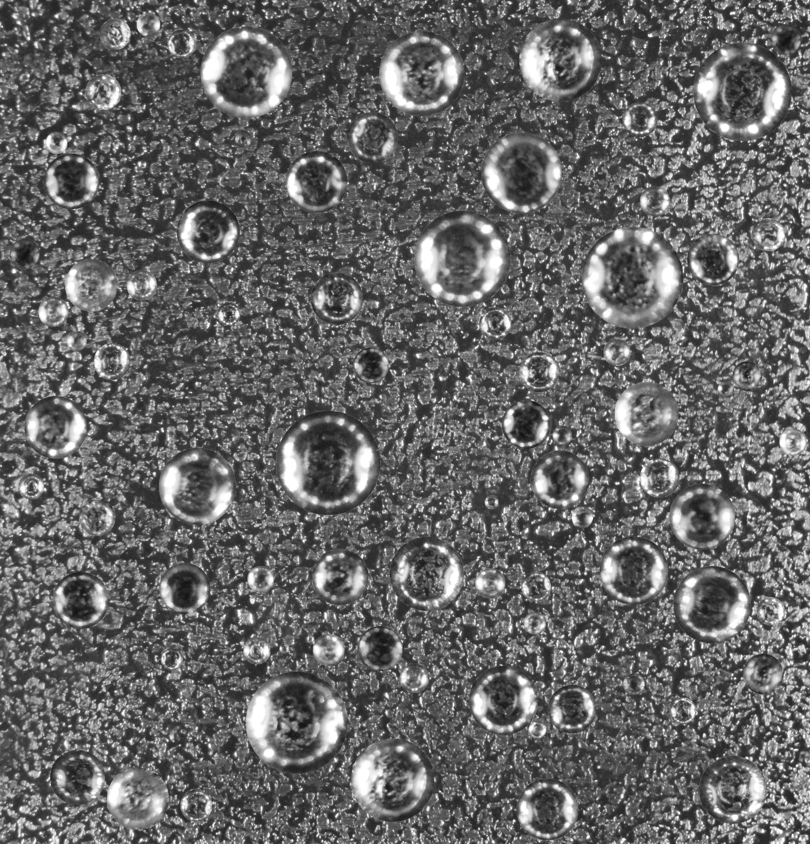Bubble: (276, 410, 380, 515), (245, 671, 347, 773), (581, 227, 683, 328), (693, 42, 791, 140), (414, 210, 510, 306), (200, 26, 292, 117), (379, 31, 464, 116), (351, 738, 434, 821), (519, 18, 601, 101), (481, 132, 561, 213), (673, 566, 750, 643), (159, 447, 235, 524), (389, 536, 463, 610), (469, 666, 538, 735), (599, 536, 668, 604), (699, 756, 766, 823), (669, 484, 735, 549), (614, 382, 678, 445), (176, 200, 239, 263), (24, 396, 86, 458), (106, 767, 168, 829), (516, 778, 578, 840), (285, 151, 347, 212), (530, 450, 589, 508), (312, 548, 368, 605), (43, 153, 99, 209), (52, 572, 108, 628), (50, 750, 104, 804), (310, 272, 362, 324), (65, 259, 117, 311), (687, 233, 739, 285), (159, 563, 210, 613), (347, 112, 397, 162), (502, 400, 550, 448), (548, 685, 596, 733), (357, 626, 402, 671), (743, 653, 783, 694), (519, 352, 559, 392), (640, 458, 679, 497), (78, 499, 115, 535), (93, 343, 130, 379), (85, 74, 121, 109), (353, 347, 388, 383), (622, 102, 657, 136), (751, 218, 784, 251), (479, 307, 511, 339), (180, 789, 212, 821), (312, 634, 344, 665), (99, 18, 130, 49), (126, 270, 156, 300), (771, 24, 801, 54), (640, 186, 670, 216), (475, 568, 505, 598), (38, 296, 68, 326), (9, 238, 39, 268), (732, 361, 762, 390), (399, 663, 429, 692), (521, 572, 550, 601), (167, 29, 195, 58), (756, 597, 784, 625), (243, 637, 270, 664), (669, 697, 696, 724), (603, 338, 630, 365), (779, 428, 806, 455), (247, 566, 273, 592), (18, 473, 43, 499), (136, 12, 160, 36), (217, 302, 240, 325), (523, 612, 546, 634), (160, 648, 182, 670), (45, 131, 67, 153), (571, 506, 593, 527), (623, 673, 644, 694), (552, 425, 572, 445), (66, 330, 86, 350), (528, 721, 546, 738), (234, 130, 251, 147), (717, 381, 733, 397), (484, 495, 498, 509), (279, 643, 289, 653)
